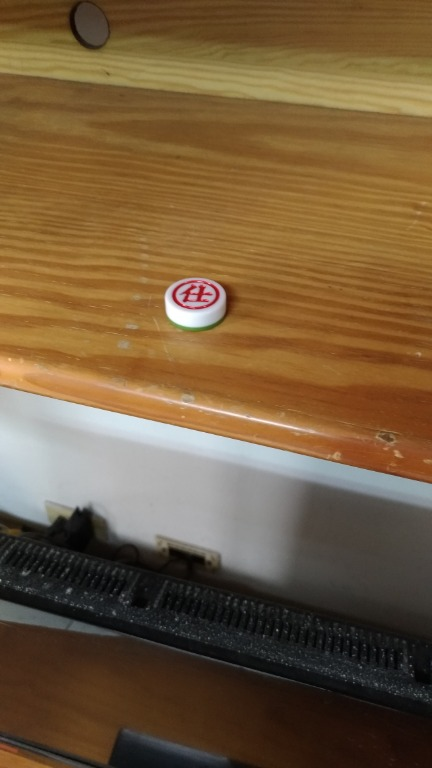r-advisor: (150, 262, 244, 341)
